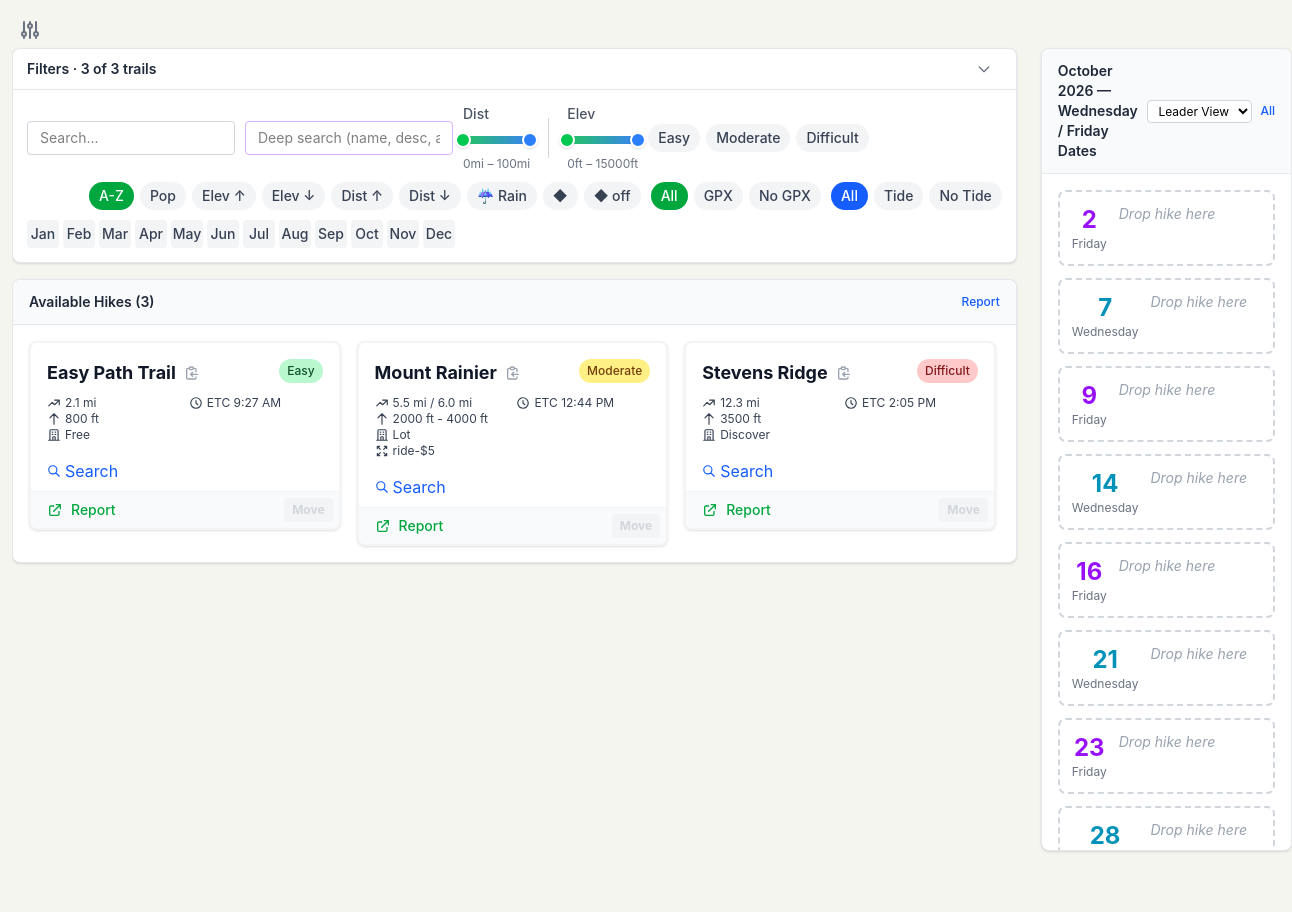
Test: ScheduleBuilder › renders Export Monthly HTML in settings menu
Click the button titled "Schedule settings" at (30, 30), box x1=12 y1=12 x2=48 y2=48
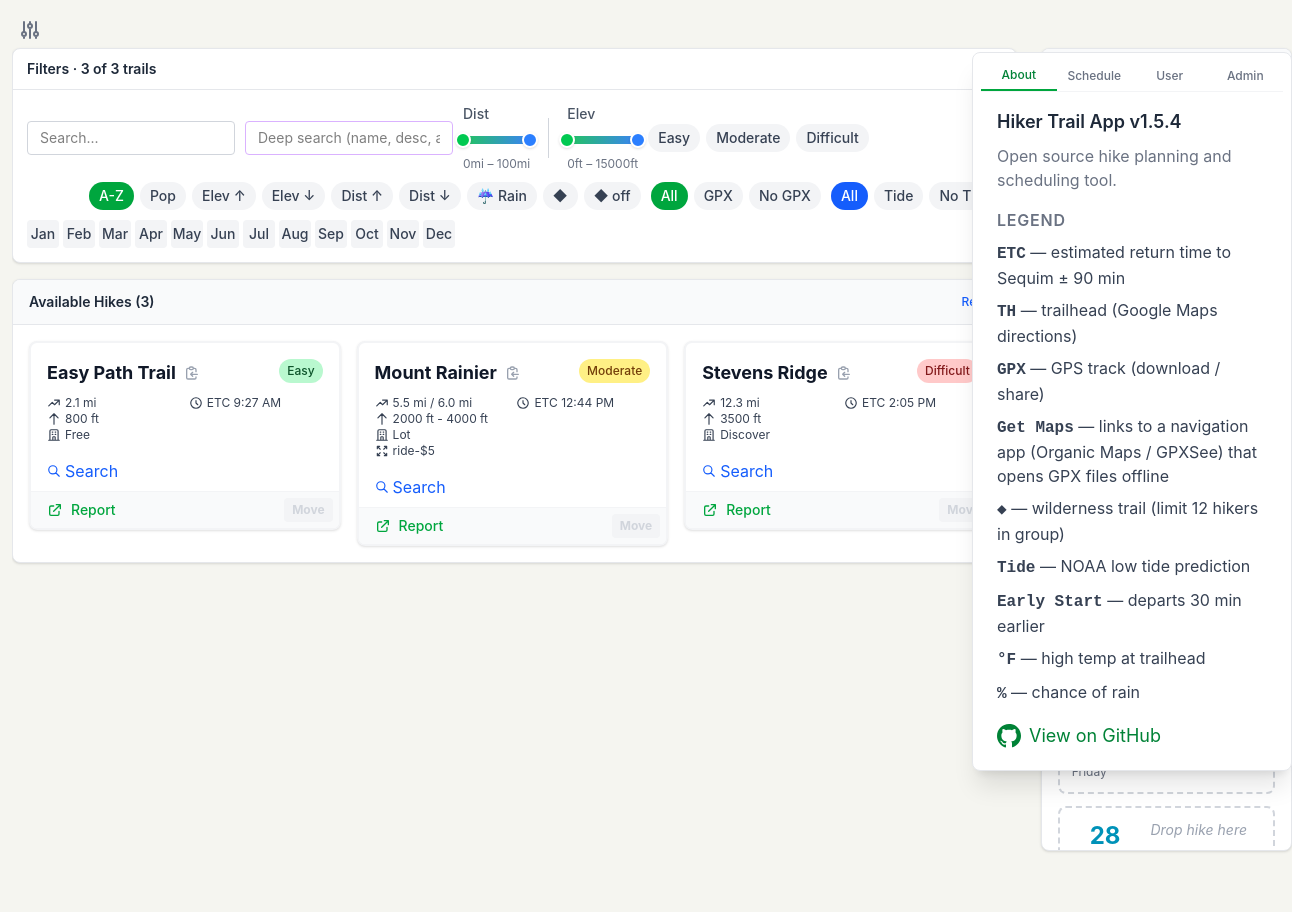
Click the tab "Schedule" at (1094, 76), box x1=1056 y1=61 x2=1132 y2=91
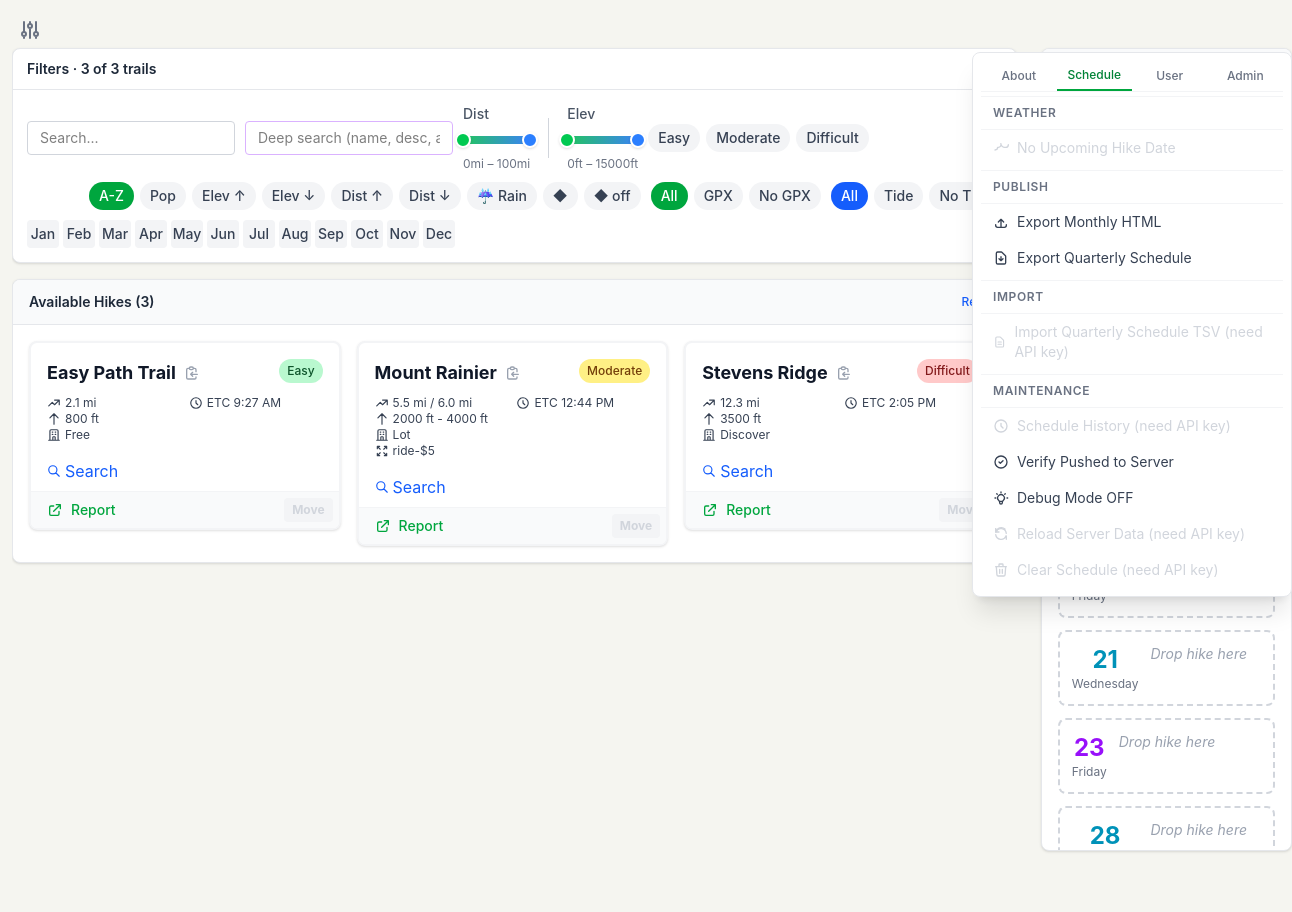
Check: the button "Export Monthly HTML" is shown, box x1=981 y1=204 x2=1283 y2=240
